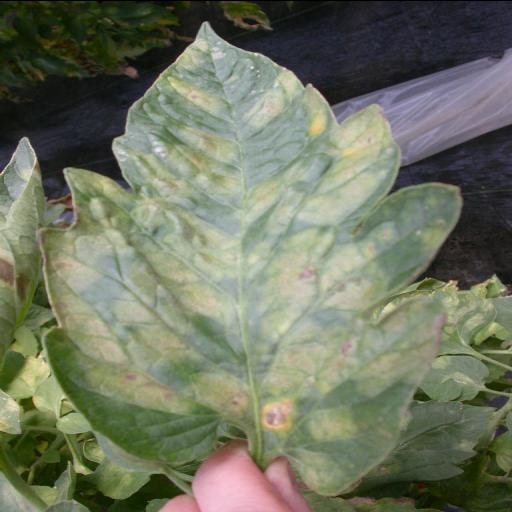Leaf Mold: (44, 22, 464, 497)
